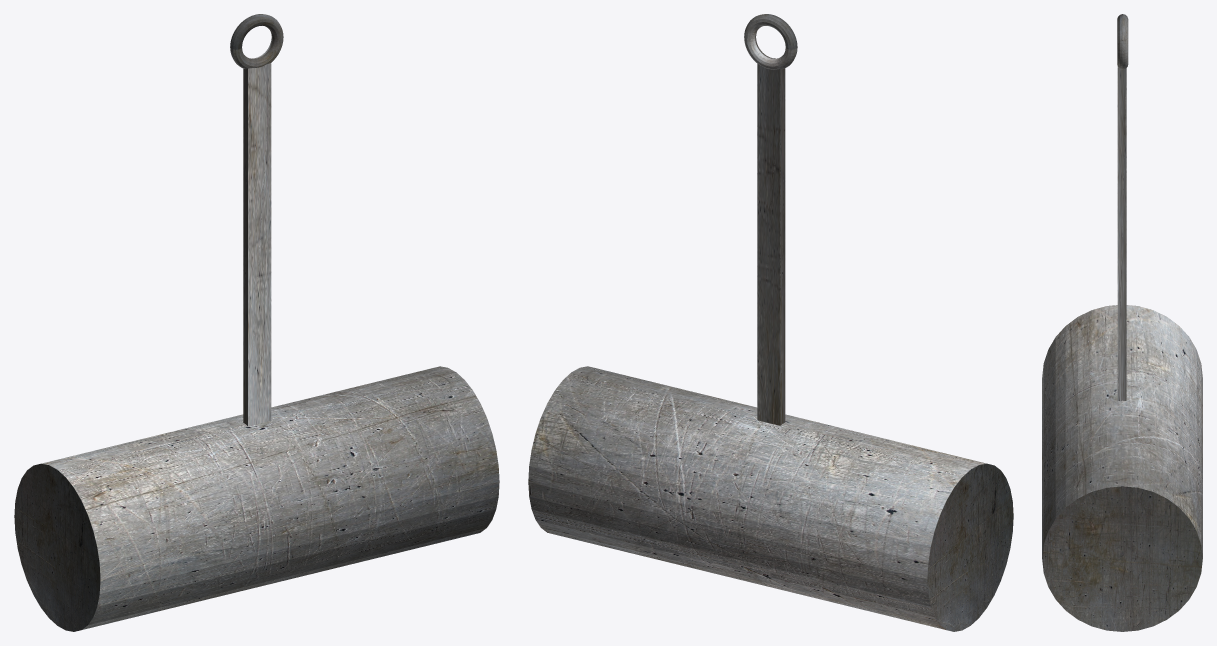
File: МОЛОТ1.fbx
The picture shows the model from 3 angles, left to right: view 1: azimuth 30°, elevation 25°; view 2: azimuth 150°, elevation 25°; view 3: azimuth 270°, elevation 25°; orthographic projection. The views are drawn at different scales.
Visible parts, largest first — view 1: Cylinder.001; view 2: Cylinder.001; view 3: Cylinder.001.
Boxes of the visible parts, x1=… form: Cylinder.001: x1=14, y1=14, x2=499, y2=631; Cylinder.001: x1=528, y1=14, x2=1013, y2=631; Cylinder.001: x1=1042, y1=14, x2=1202, y2=631.
Size of the model in its own units: 3022 by 4066 by 1129.
